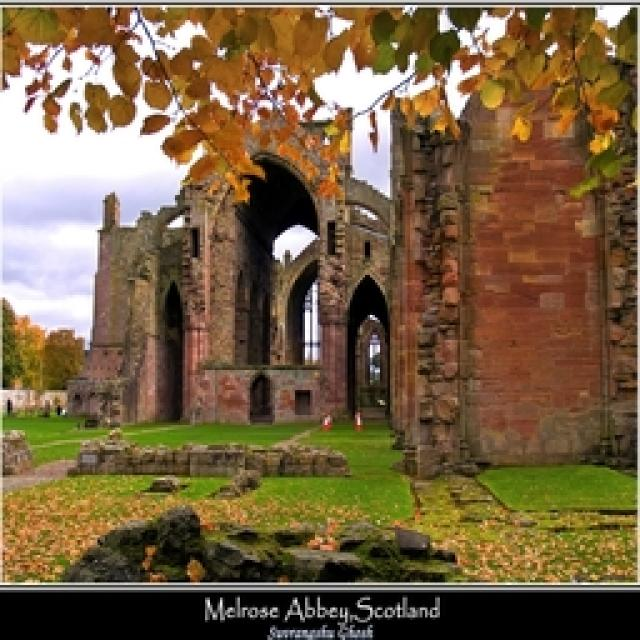Abbey: (76, 76, 421, 446)
